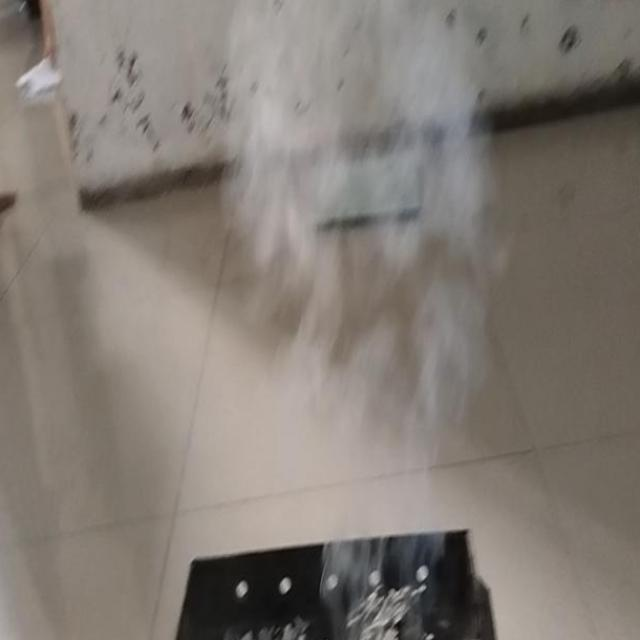fire: (229, 18, 492, 391)
